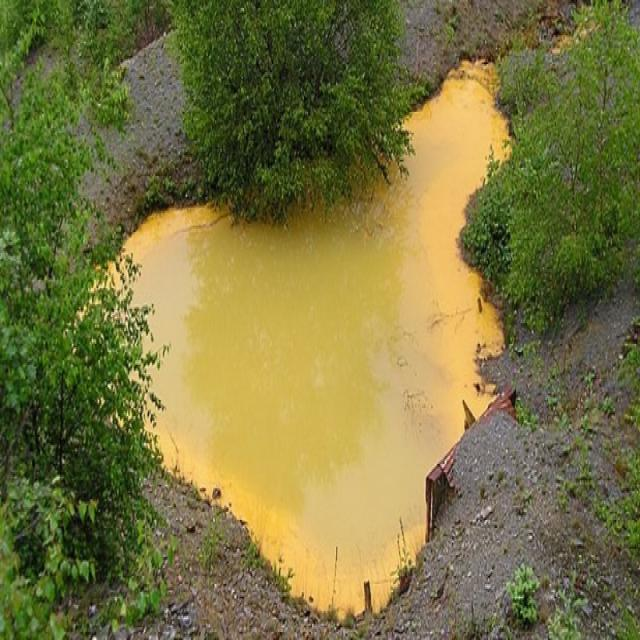yellow_boy: (127, 66, 506, 613)
